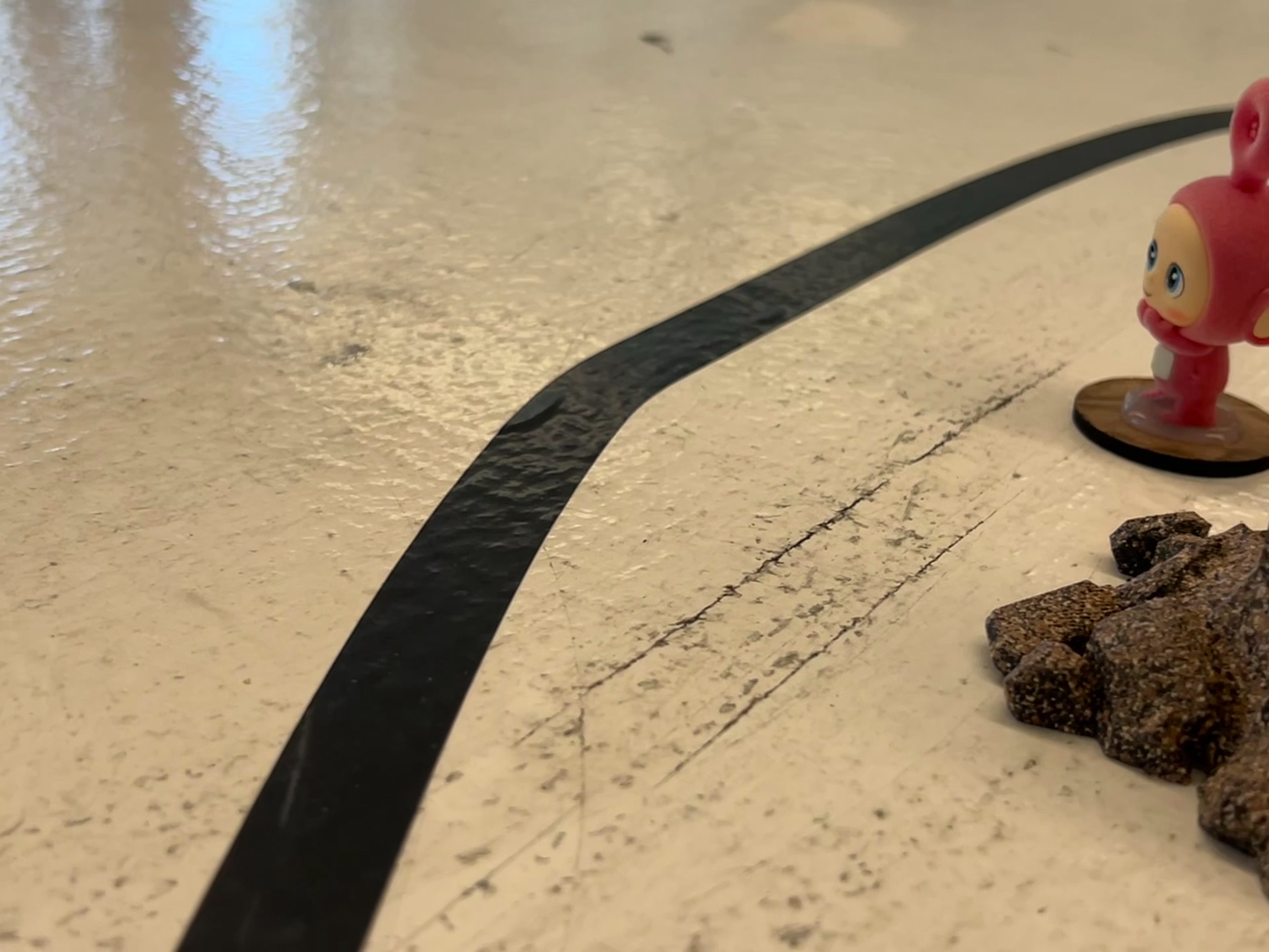teletubby: (1136, 78, 1268, 427)
